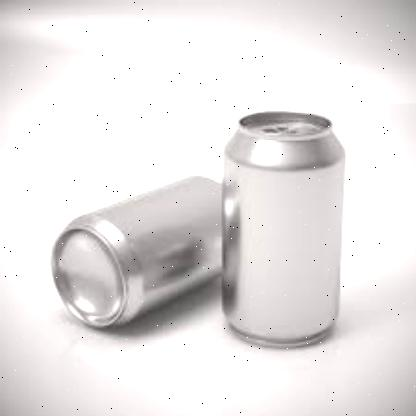Can: (220, 111, 346, 344), (50, 176, 222, 331)
